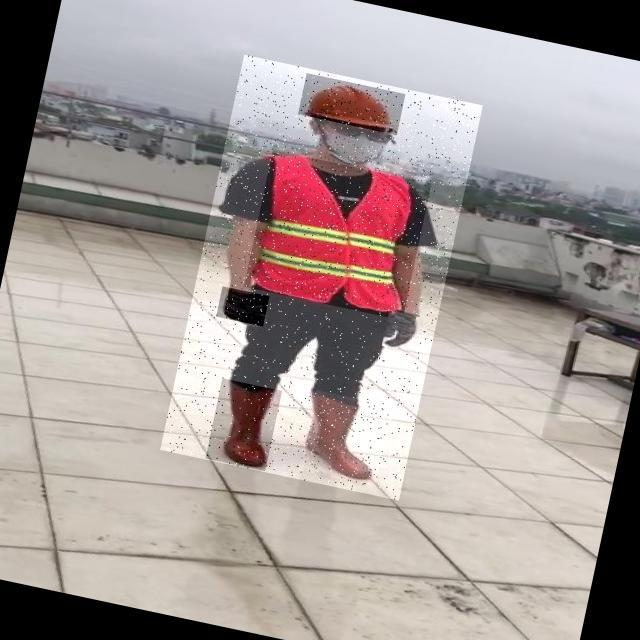Gloves: (216, 286, 269, 326), (382, 310, 425, 353)
Helmet: (298, 73, 407, 135)
Human: (160, 55, 483, 501)
Safety Boot: (299, 390, 392, 486), (205, 378, 282, 471)
Safety Vest: (243, 149, 431, 320)
